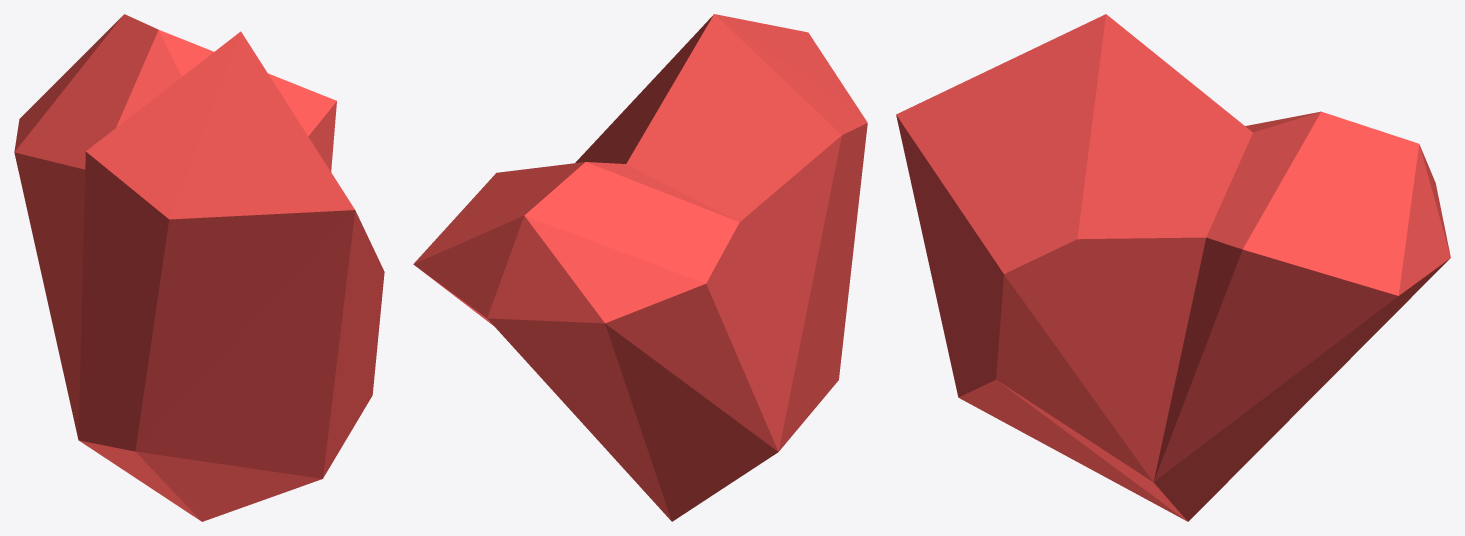
The model's file is Trolls_heart_stone.fbx.
3 renders of one model, left to right at view 1: azimuth 30°, elevation 25°; view 2: azimuth 150°, elevation 25°; view 3: azimuth 270°, elevation 25°, orthographic. The views are drawn at different scales.
Parts seen in each view (by area): view 1: Cube.042; view 2: Cube.042; view 3: Cube.042.
Part boxes in pixels (x1=…): Cube.042: x1=14, y1=14, x2=384, y2=521; Cube.042: x1=413, y1=14, x2=867, y2=521; Cube.042: x1=896, y1=14, x2=1450, y2=521.
Size of the model in its own units: 44.28 by 68.31 by 67.85.
